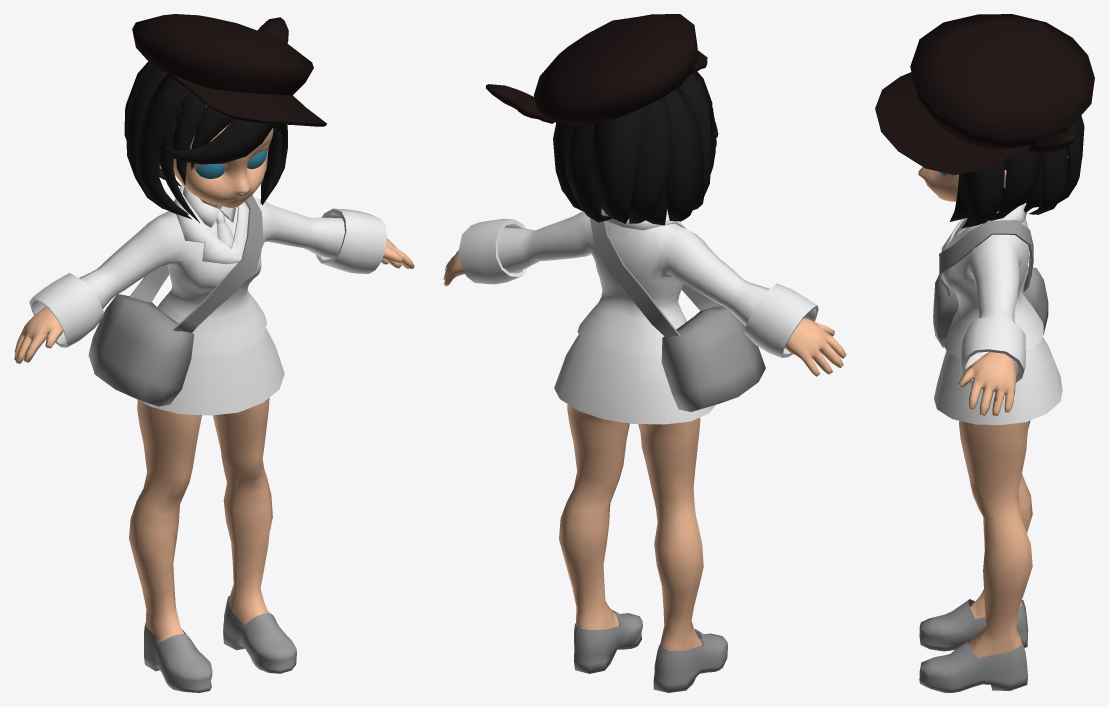
Rendered from NANA_POLYCOUNTSENSEIBAKE.FBX.
The picture shows the model from 3 angles, left to right: view 1: azimuth 30°, elevation 25°; view 2: azimuth 150°, elevation 25°; view 3: azimuth 270°, elevation 25°; orthographic projection.
Visible parts, largest first — view 1: BODY, skin, SHOES, HAT AND WING, HAIR, EYEBALL; view 2: BODY, skin, HAIR, SHOES, HAT AND WING; view 3: HAT AND WING, BODY, skin, SHOES, HAIR.
Part boxes in pixels (bbox=[...]): BODY: bbox=[29, 184, 386, 415]; skin: bbox=[14, 105, 414, 642]; SHOES: bbox=[88, 195, 296, 692]; HAT AND WING: bbox=[132, 14, 326, 126]; HAIR: bbox=[124, 61, 287, 222]; EYEBALL: bbox=[195, 149, 266, 178]; BODY: bbox=[458, 211, 818, 424]; skin: bbox=[443, 250, 846, 650]; HAIR: bbox=[553, 71, 718, 225]; SHOES: bbox=[574, 208, 765, 692]; HAT AND WING: bbox=[486, 14, 707, 125]; HAT AND WING: bbox=[875, 14, 1094, 174]; BODY: bbox=[934, 204, 1062, 424]; skin: bbox=[918, 167, 1032, 657]; SHOES: bbox=[919, 220, 1048, 692]; HAIR: bbox=[949, 115, 1084, 228].
Bounding box in the file's own units: 114 × 174 × 54.95.
